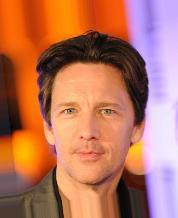face: (59, 102, 118, 163)
